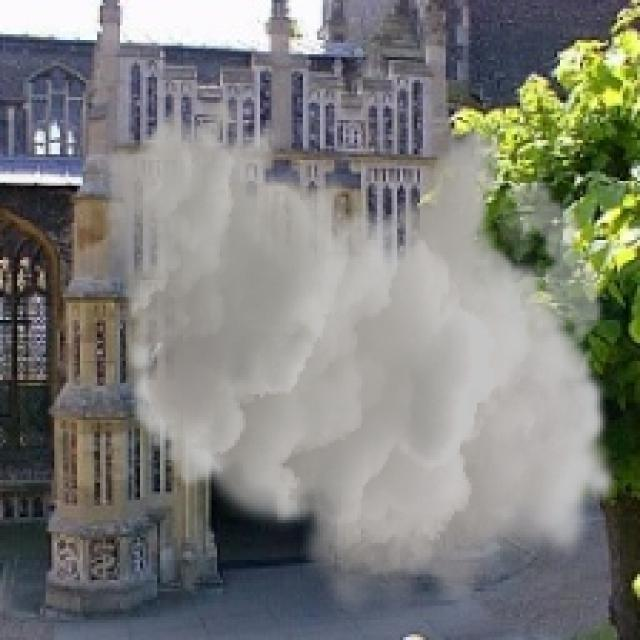Smoke: (100, 91, 620, 626)
